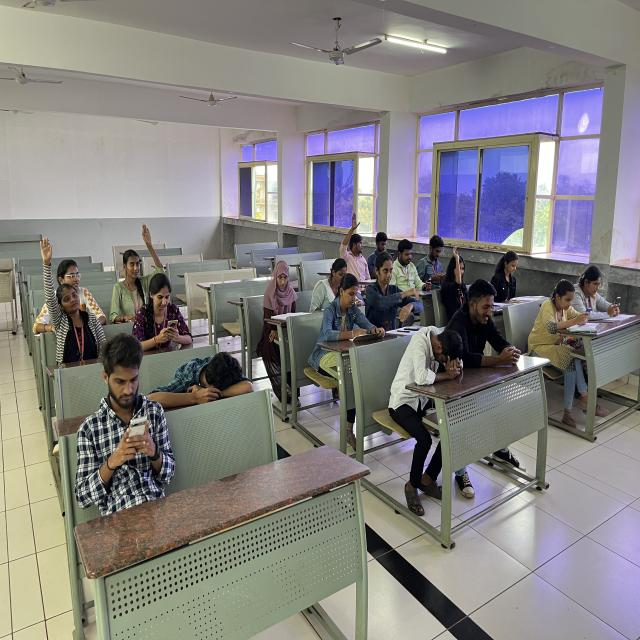Hand Rising: (26, 225, 114, 362), (109, 208, 186, 306), (330, 200, 376, 286), (439, 239, 476, 310)
Reading: (246, 245, 314, 351), (486, 239, 538, 307)
Sleeping: (162, 329, 273, 419), (390, 324, 469, 436)
Using Phone: (73, 334, 188, 514), (530, 277, 596, 363)
Writing: (321, 272, 387, 360)
